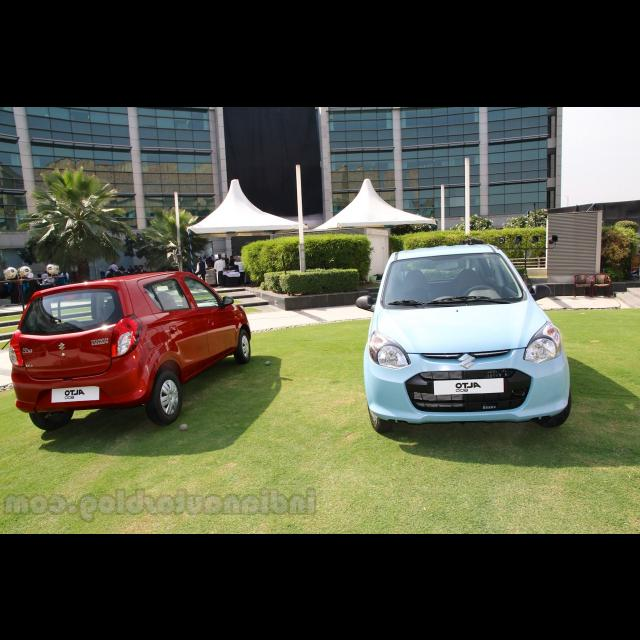vehicles: (10, 244, 250, 432), (356, 238, 570, 432)
